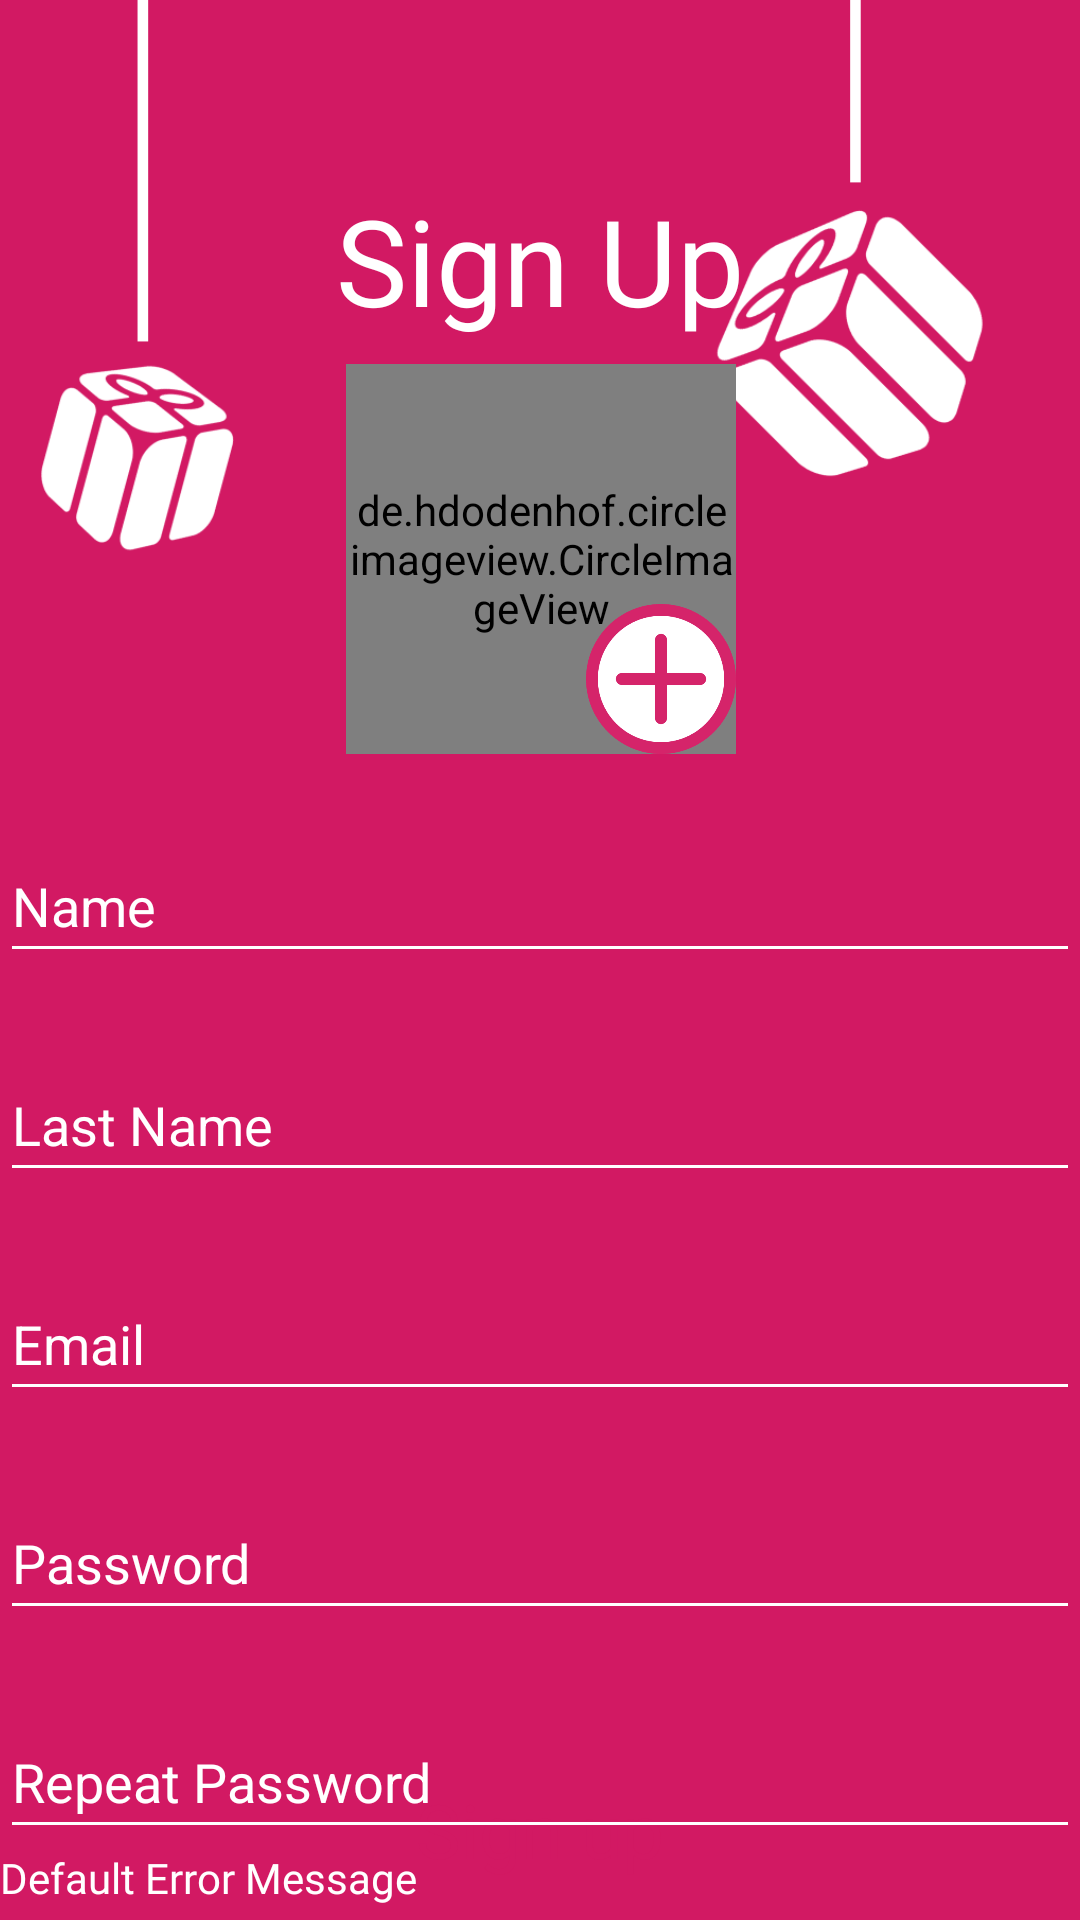

Named icons in this screenshot (1080px x 1920px) and their centers, [x,y]:
plus: [661,679]
